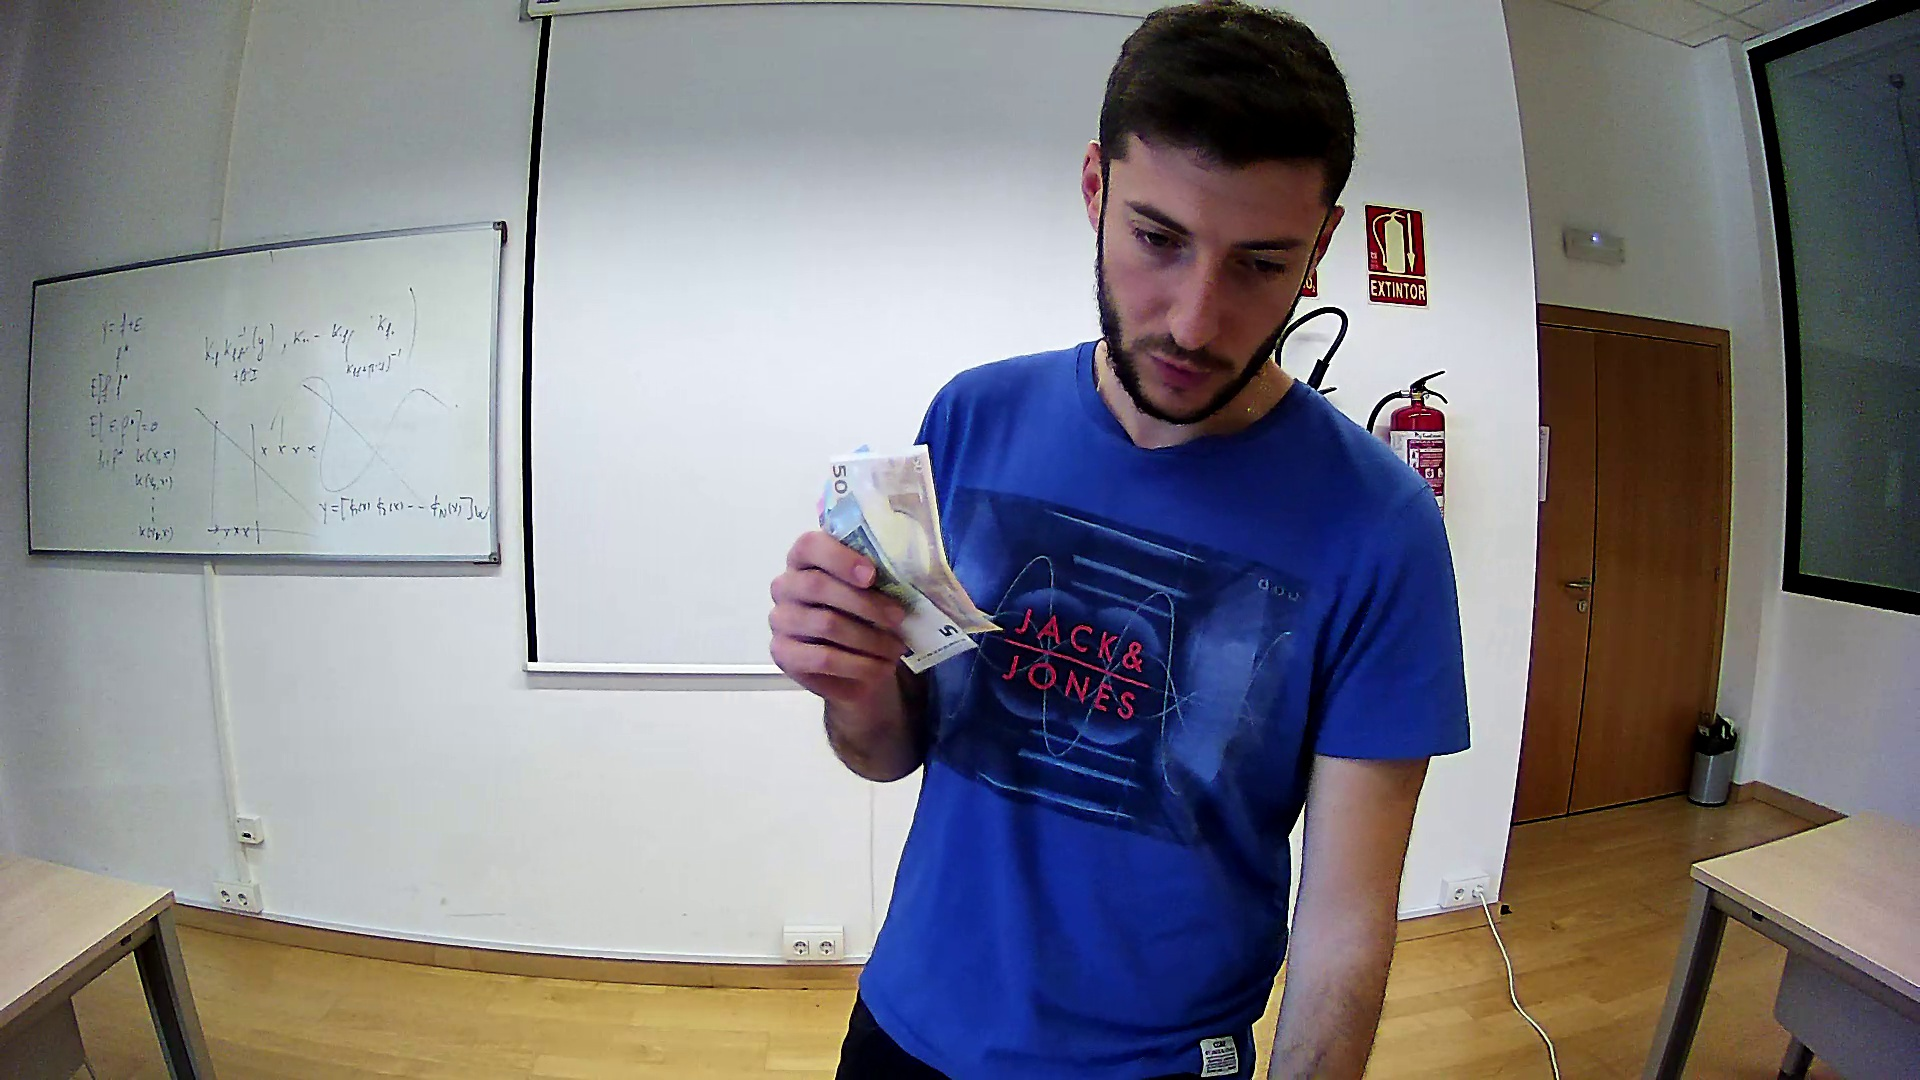billete: (816, 443, 1004, 676), (819, 491, 978, 674)
